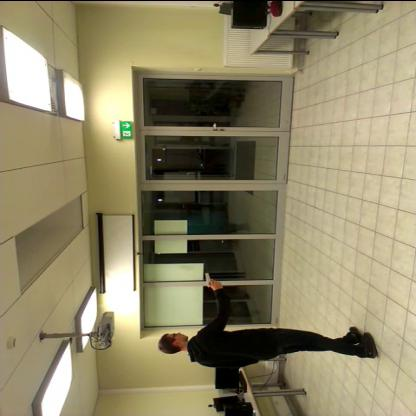Pistol: (196, 268, 226, 288)
